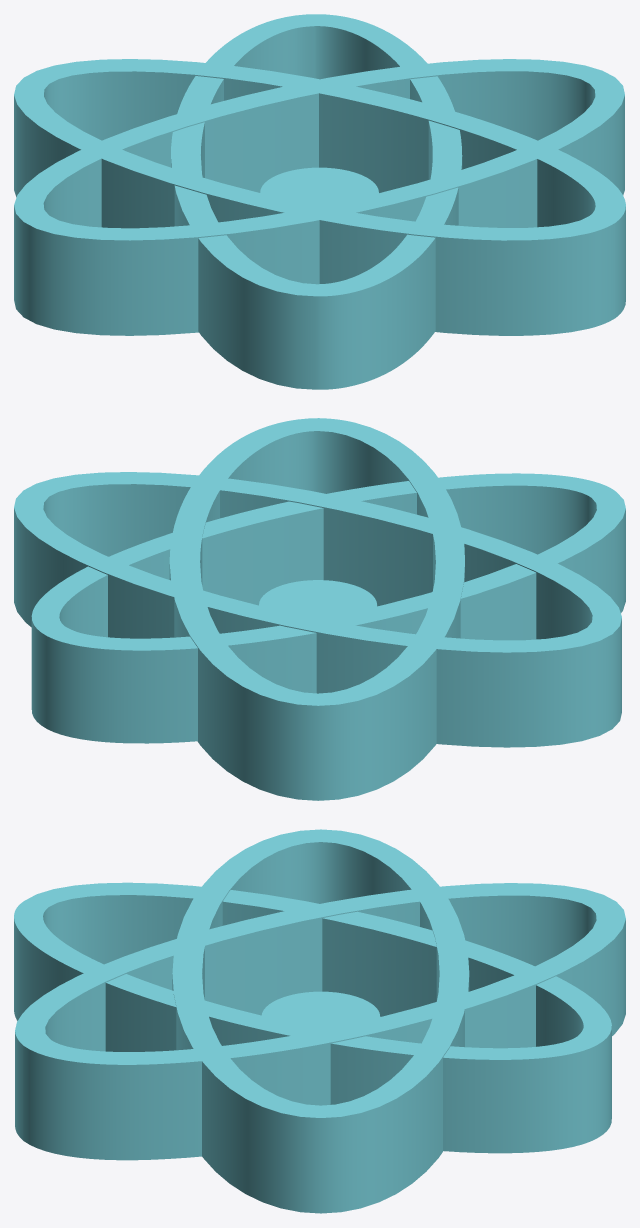
The model's file is react2.glb.
The picture shows the model from 3 angles, top to bottom: view 1: azimuth 30°, elevation 25°; view 2: azimuth 150°, elevation 25°; view 3: azimuth 270°, elevation 25°; orthographic projection.
Visible parts, largest first — view 1: Curve.002, Curve, Curve.001, Curve.003; view 2: Curve, Curve.001, Curve.002, Curve.003; view 3: Curve.002, Curve.001, Curve, Curve.003.
Boxes of the visible parts, x1=… form: Curve.002: x1=14, y1=59, x2=625, y2=335; Curve: x1=14, y1=59, x2=624, y2=335; Curve.001: x1=171, y1=14, x2=462, y2=389; Curve.003: x1=260, y1=167, x2=378, y2=205; Curve: x1=14, y1=472, x2=621, y2=747; Curve.001: x1=31, y1=473, x2=625, y2=743; Curve.002: x1=169, y1=418, x2=464, y2=800; Curve.003: x1=259, y1=580, x2=377, y2=618; Curve.002: x1=15, y1=883, x2=625, y2=1160; Curve.001: x1=14, y1=882, x2=611, y2=1153; Curve: x1=172, y1=829, x2=469, y2=1213; Curve.003: x1=261, y1=991, x2=380, y2=1029.
Size of the model in its own units: 0.1392 by 0.0214 by 0.1247.
